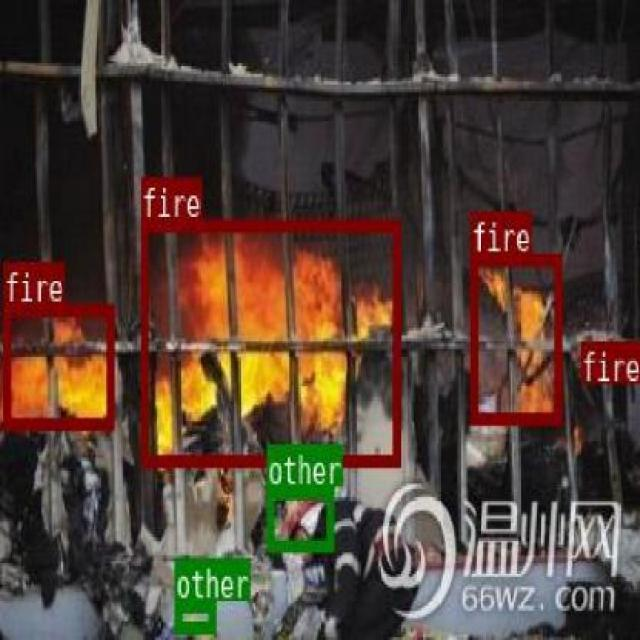Fire: (138, 218, 398, 464), (470, 252, 561, 422), (2, 304, 112, 426), (578, 342, 602, 366)
